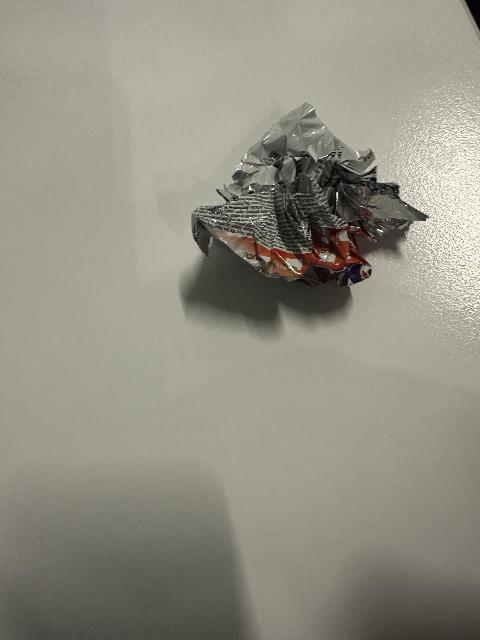Plastik: (179, 94, 413, 287)
